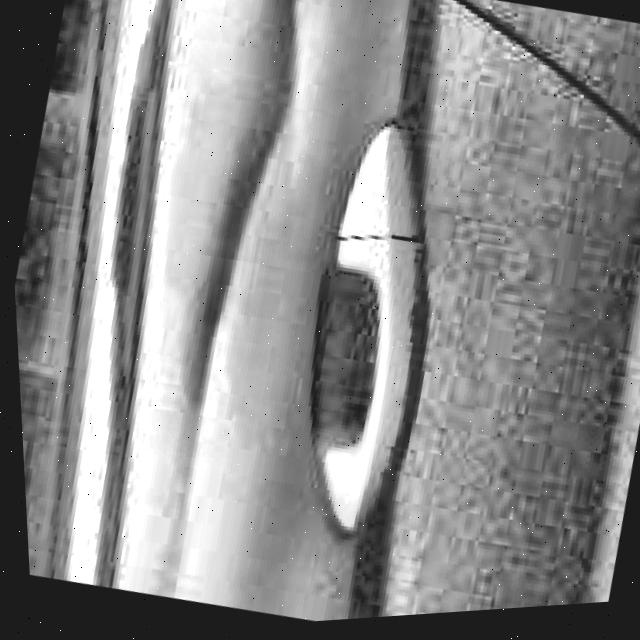door_dent: (158, 0, 359, 417)
